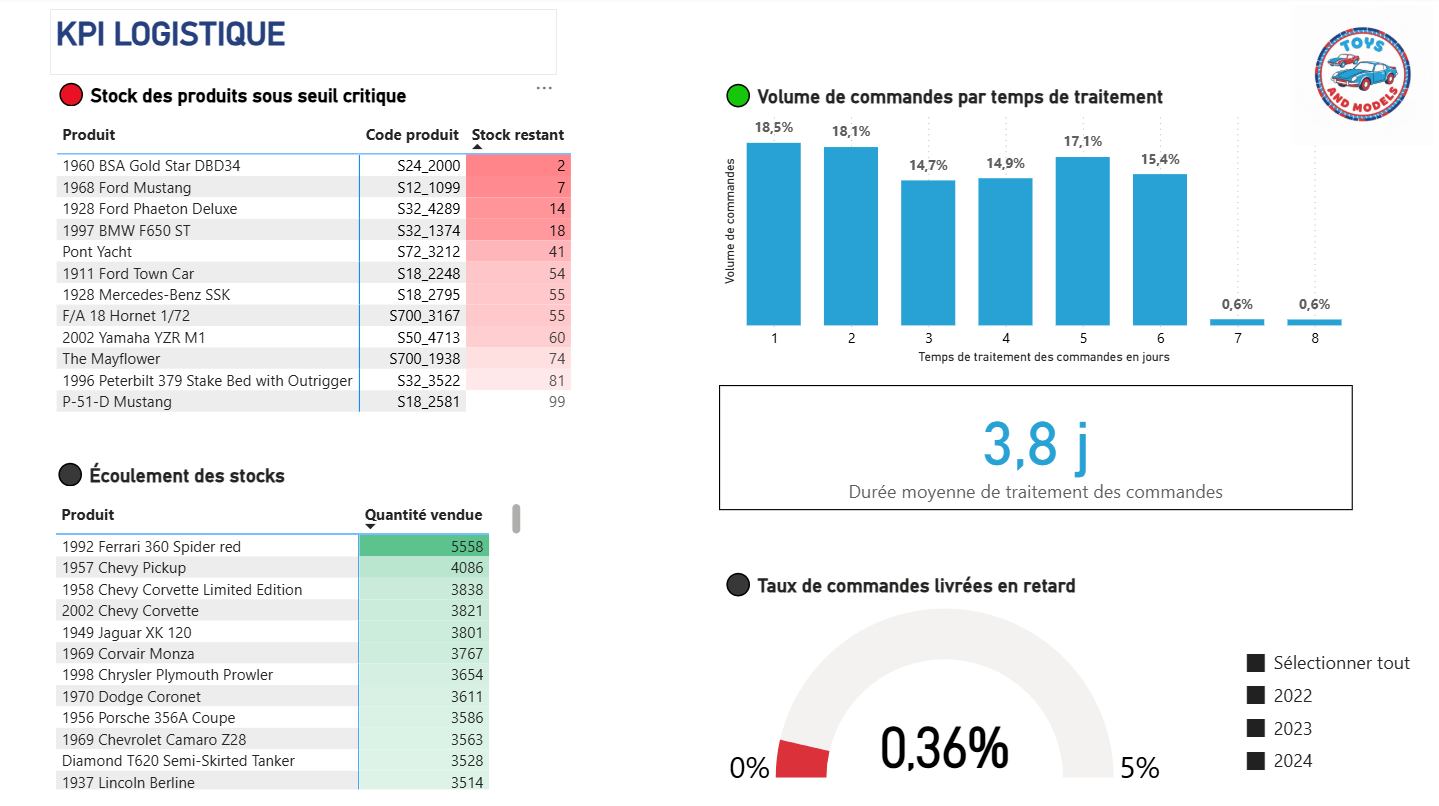

Layout of this report page (visuals, bound fields, positions):
{"tool":"powerbi","page":{"name":"Logistique","canvas":[1280,720],"ordinal":3},"visuals":[{"type":"pivotTable","title":"🔴 Stock des produits sous seuil critique","fields":{"Rows":["DIM_PRODUCTS.productName"],"Values":["Min(DIM_PRODUCTS.productCode)","Min(FACT_SALES.quantityInStock)"]},"box":[48.4,73.1,497.6,326],"z":0},{"type":"clusteredColumnChart","title":"🟢 Volume de commandes par temps de traitement","fields":{"Category":["FACT_SALES.temps_livraison"],"Y":["Sum(FACT_SALES.orderNumber)"]},"box":[640.5,73.2,561.3,256.6],"z":1000},{"type":"card","fields":{"Values":["Avg(FACT_SALES.temps_livraison)"]},"box":[641,343.8,561.6,111.1],"z":2000},{"type":"slicer","fields":{"Values":["DIM_DATES.year"]},"box":[1095.9,570.4,183.4,129.6],"z":3000},{"type":"pivotTable","title":"⚫ Écoulement des stocks","fields":{"Rows":["DIM_PRODUCTS.productName"],"Values":["Sum(FACT_SALES.quantityOrdered)"]},"box":[48.1,410,423,297.7],"z":4000},{"type":"image","box":[1144.7,0,135.3,138.3],"z":5000},{"type":"gauge","title":"⚫ Taux de commandes livrées en retard","fields":{"Y":["FACT_SALES.Taux commandes livrées en retard (%)"]},"box":[640.1,507,402,201],"z":6000},{"type":"textbox","box":[48,11,449,58],"z":7000}]}

Visuals, with their boxes in screenshot pixels (x1, y1, x2, y2), scaled from the page's 1280x720 canvas onto the 1439x806 screenshot:
"🔴 Stock des produits sous seuil critique" pivotTable: [x1=54, y1=82, x2=614, y2=447]
"🟢 Volume de commandes par temps de traitement" clusteredColumnChart: [x1=720, y1=82, x2=1351, y2=369]
card - Avg(FACT_SALES.temps_livraison): [x1=721, y1=385, x2=1352, y2=509]
slicer - DIM_DATES.year: [x1=1232, y1=639, x2=1438, y2=784]
"⚫ Écoulement des stocks" pivotTable: [x1=54, y1=459, x2=530, y2=792]
image: [x1=1287, y1=0, x2=1438, y2=155]
"⚫ Taux de commandes livrées en retard" gauge: [x1=720, y1=568, x2=1172, y2=793]
textbox: [x1=54, y1=12, x2=559, y2=77]
